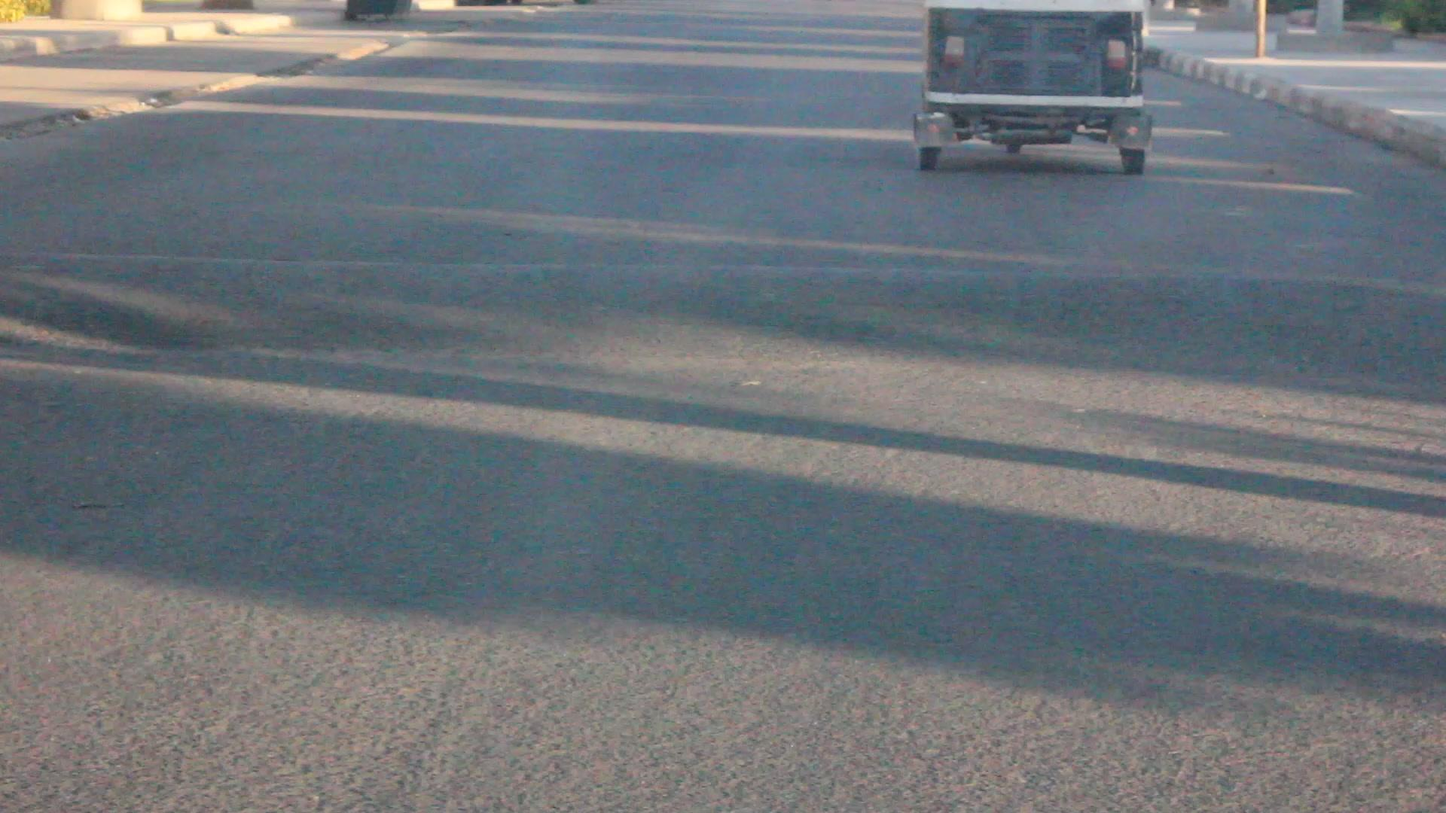Bump: (34, 247, 1446, 423)
